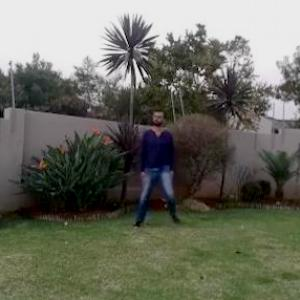follow: (138, 101, 174, 226)
